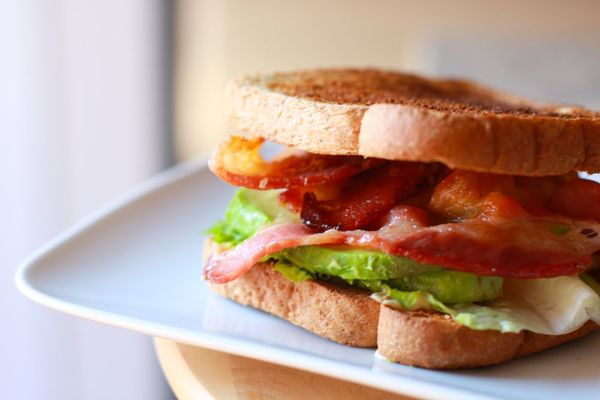soup: (201, 64, 600, 374)
